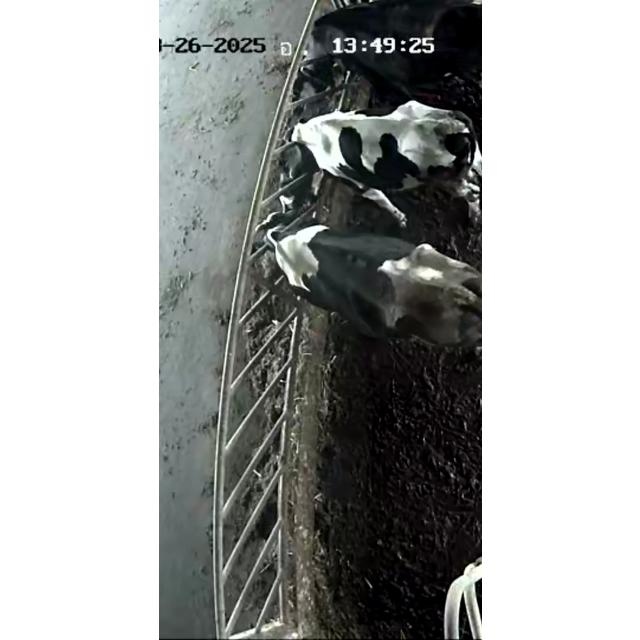eat: (223, 110, 381, 204), (185, 202, 348, 292), (241, 13, 415, 91)
